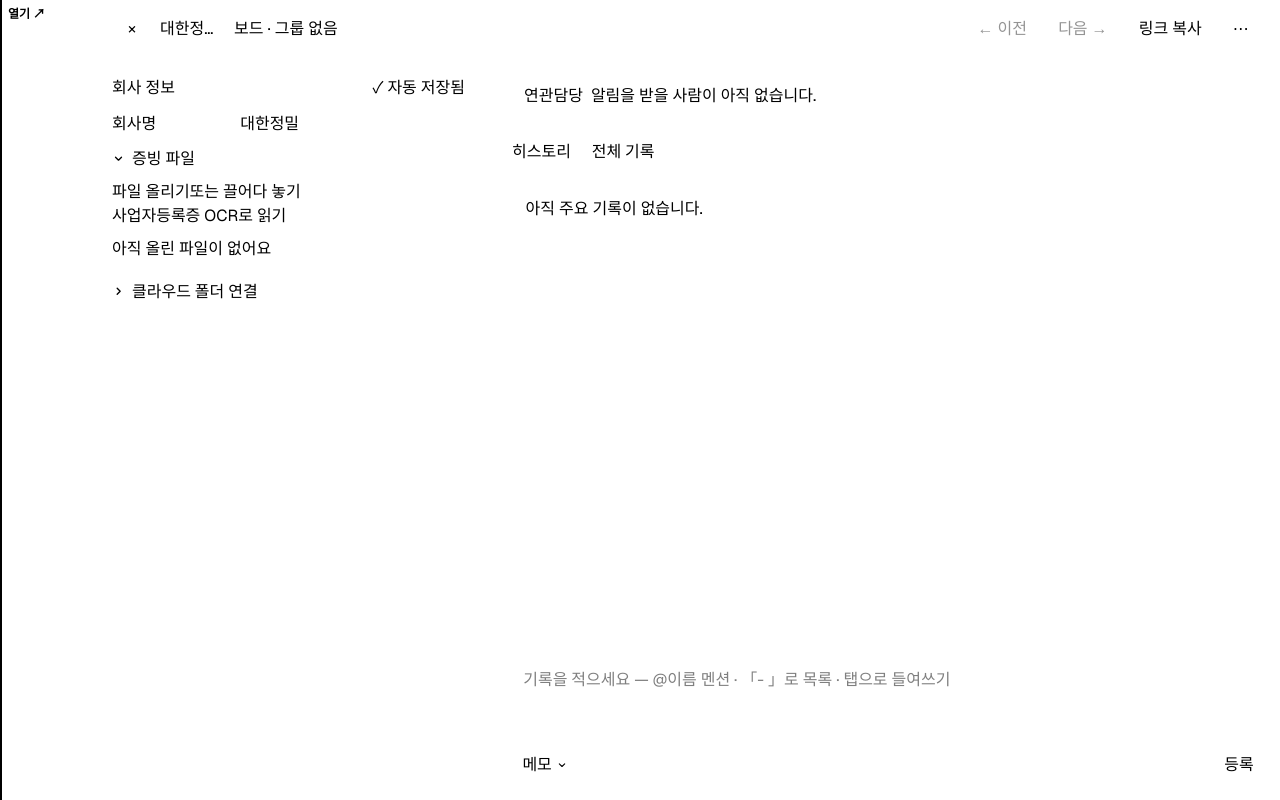
Scenario: Next canonical URL and detail hash › closing a direct deep link replaces only its hash and keeps the query
This screenshot has width=1280, height=800.
What coordinates should you click on to do the following:
click the button named "상세 닫기"
I would click on:
 (132, 29)
Its box is [116,13,148,45].
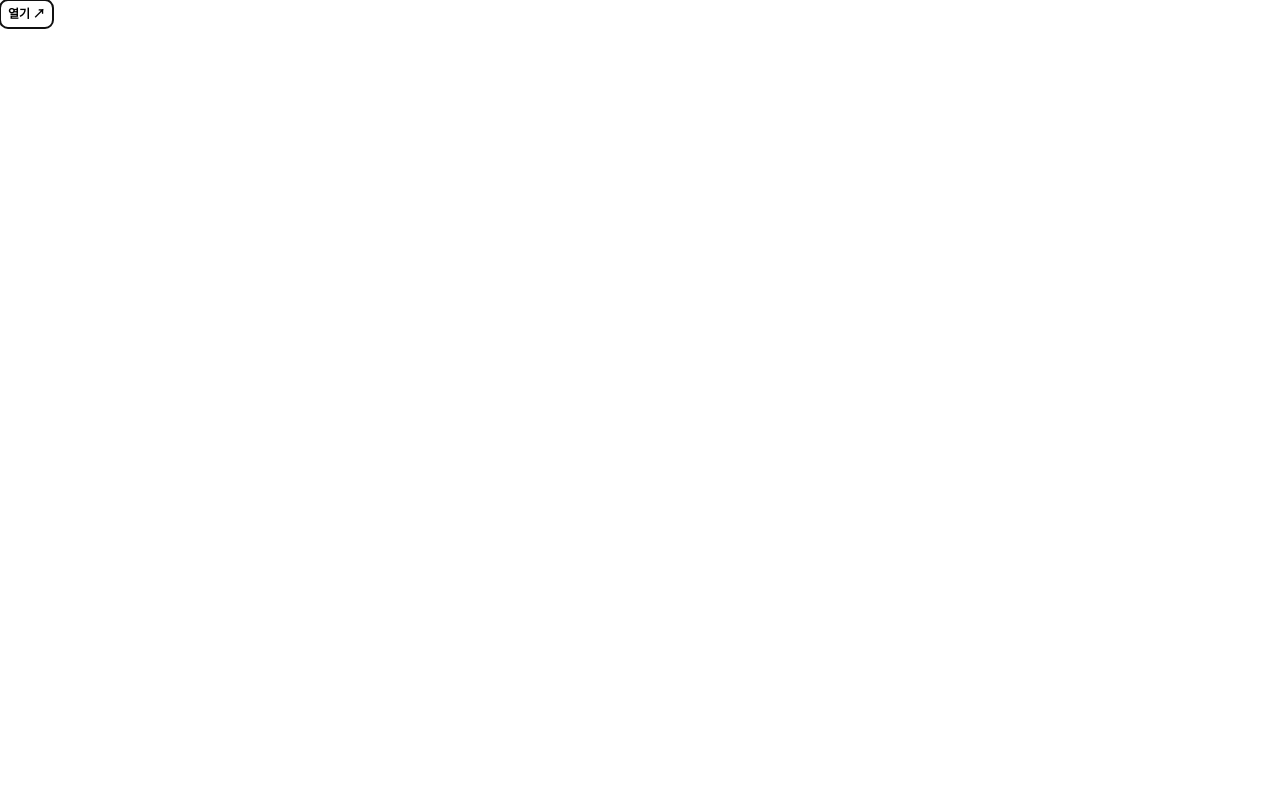
Expected: the dialog is gone
